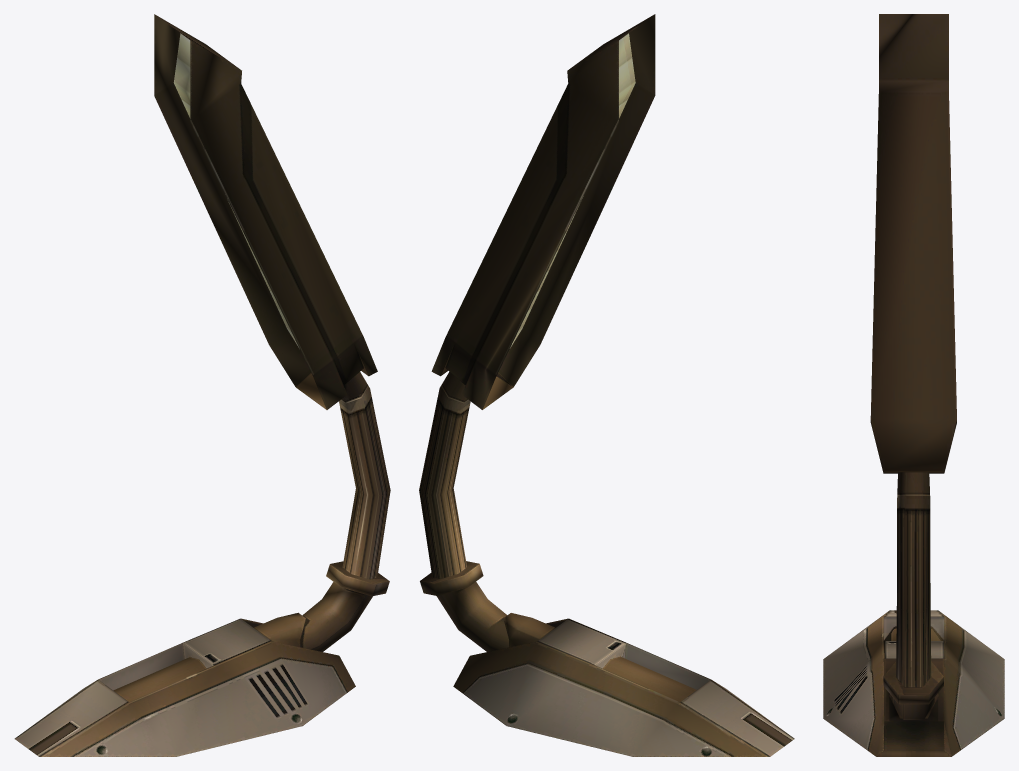
Rendered from tischlampe.glb.
3 renders of one model, left to right at view 1: azimuth 30°, elevation 25°; view 2: azimuth 150°, elevation 25°; view 3: azimuth 270°, elevation 25°, orthographic. The views are drawn at different scales.
Parts seen in each view (by area): view 1: Box01; view 2: Box01; view 3: Box01.
Boxes of the visible parts, x1,y1,x2,y2 form: Box01: (14, 14, 390, 756); Box01: (419, 14, 794, 756); Box01: (823, 14, 1004, 756).
Bounding box in the file's own units: 17.78 × 32.39 × 7.99.
1 material, 1 textured.
